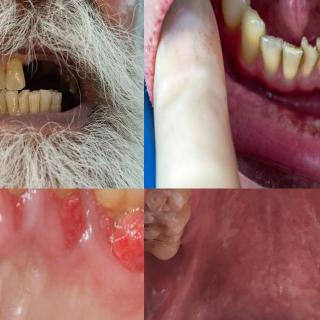Gum Swelling: (0, 188, 144, 296), (106, 198, 144, 261), (53, 189, 85, 239), (2, 190, 26, 226), (285, 69, 320, 87)
maligned: (258, 29, 282, 71), (300, 32, 320, 74), (280, 42, 304, 76), (313, 32, 320, 71)
stains: (273, 46, 291, 80), (296, 50, 308, 78), (312, 45, 320, 75)
